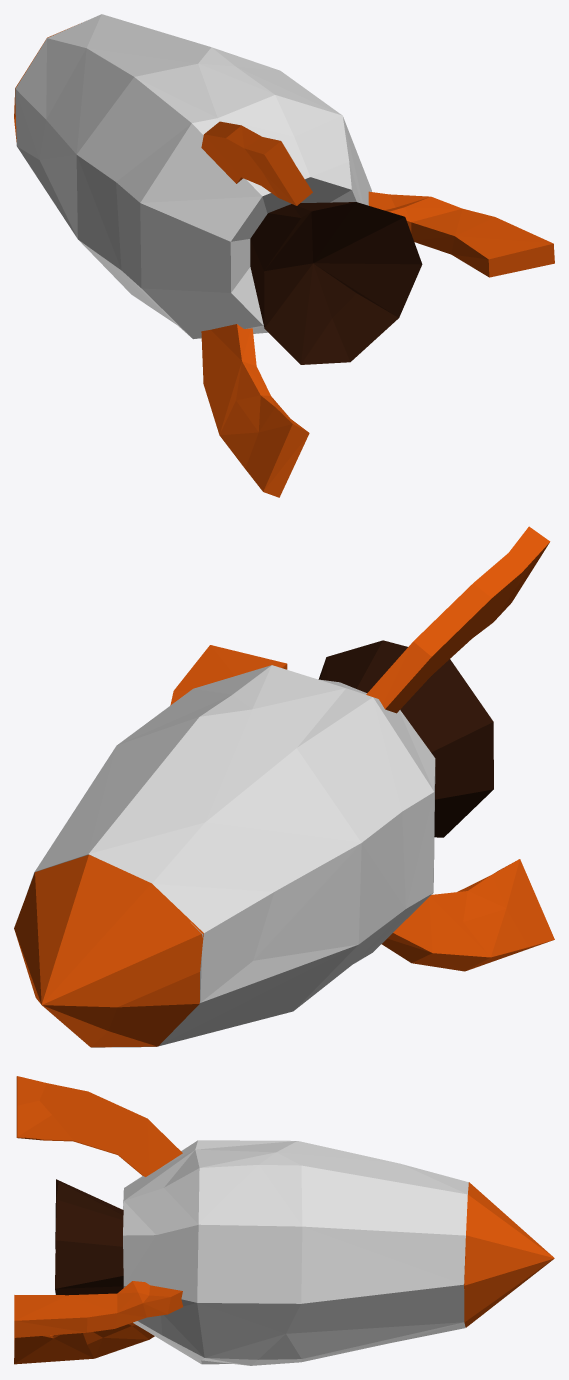
The model's file is RocketJunk.gltf.
3 views of the same model, one above another, from view 1: azimuth 30°, elevation 25°; view 2: azimuth 150°, elevation 25°; view 3: azimuth 270°, elevation 25° (orthographic). The views are drawn at different scales.
Parts seen in each view (by area): view 1: RocketJunk1, RocketJunk2, RocketJunk5, RocketJunk3, RocketJunk4; view 2: RocketJunk1, RocketJunk6, RocketJunk2, RocketJunk5, RocketJunk4, RocketJunk3; view 3: RocketJunk1, RocketJunk4, RocketJunk2, RocketJunk6, RocketJunk3, RocketJunk5.
Part boxes in pixels (x1=…): RocketJunk1: x1=15, y1=14, x2=371, y2=339; RocketJunk2: x1=250, y1=202, x2=422, y2=364; RocketJunk5: x1=201, y1=324, x2=309, y2=497; RocketJunk3: x1=368, y1=191, x2=554, y2=277; RocketJunk4: x1=201, y1=121, x2=312, y2=205; RocketJunk1: x1=27, y1=665, x2=435, y2=1047; RocketJunk6: x1=14, y1=854, x2=203, y2=1047; RocketJunk2: x1=318, y1=640, x2=493, y2=837; RocketJunk5: x1=381, y1=859, x2=554, y2=971; RocketJunk4: x1=366, y1=526, x2=550, y2=713; RocketJunk3: x1=170, y1=645, x2=287, y2=705; RocketJunk1: x1=123, y1=1140, x2=468, y2=1365; RocketJunk4: x1=16, y1=1076, x2=182, y2=1176; RocketJunk2: x1=55, y1=1179, x2=123, y2=1295; RocketJunk6: x1=464, y1=1182, x2=554, y2=1327; RocketJunk3: x1=14, y1=1281, x2=183, y2=1337; RocketJunk5: x1=14, y1=1322, x2=154, y2=1364.
Bounding box in the file's own units: 0.3409 × 0.3802 × 0.6431.
